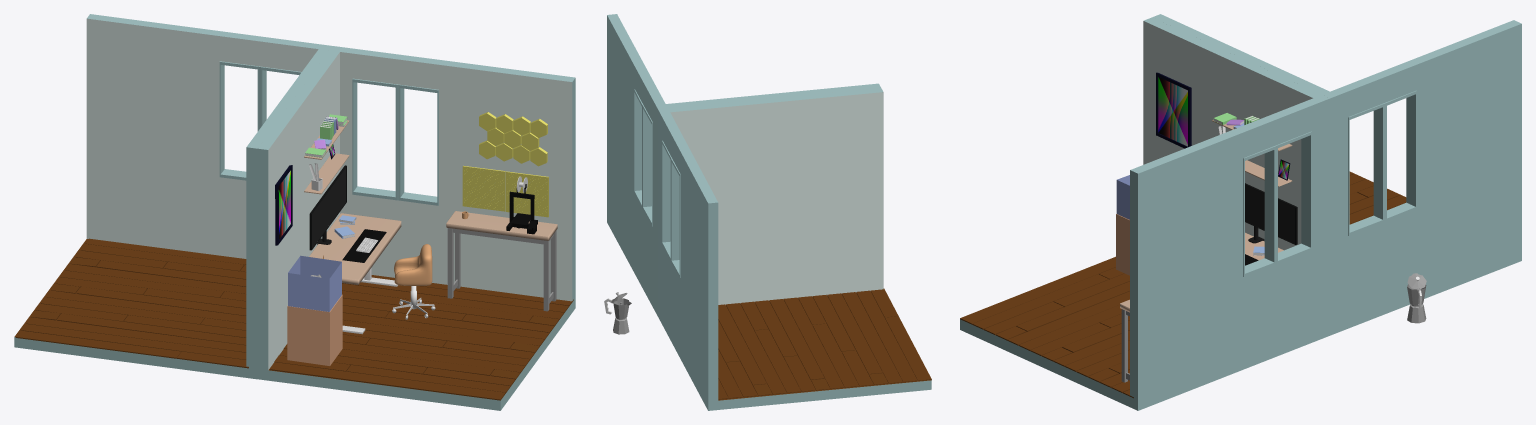
The model's file is Finale Version 21.glb.
3 renders of one model, left to right at view 1: azimuth 30°, elevation 25°; view 2: azimuth 150°, elevation 25°; view 3: azimuth 270°, elevation 25°, orthographic. The views are drawn at different scales.
Visible parts, largest first — view 1: Body, floor.001, floor, Shelves, Desks, Aquarium, Computer, Chair, Table Stuff, Printer; view 2: Body, floor.001, Cube; view 3: Body, floor, Shelves, Computer, floor.001, Aquarium, Desks, Cube.
Boxes of the visible parts, x1=… form: Body: x1=14, y1=14, x2=575, y2=410; floor.001: x1=15, y1=238, x2=248, y2=368; floor: x1=269, y1=275, x2=573, y2=400; Shelves: x1=275, y1=112, x2=548, y2=245; Desks: x1=309, y1=211, x2=557, y2=334; Aquarium: x1=287, y1=255, x2=342, y2=365; Computer: x1=309, y1=165, x2=346, y2=250; Chair: x1=394, y1=244, x2=432, y2=285; Table Stuff: x1=324, y1=211, x2=469, y2=262; Printer: x1=506, y1=184, x2=537, y2=234; Body: x1=607, y1=14, x2=931, y2=410; floor.001: x1=718, y1=288, x2=931, y2=399; Cube: x1=604, y1=292, x2=631, y2=334; Body: x1=960, y1=14, x2=1521, y2=410; floor: x1=960, y1=256, x2=1133, y2=398; Shelves: x1=1156, y1=72, x2=1292, y2=186; Computer: x1=1245, y1=183, x2=1297, y2=244; floor.001: x1=1349, y1=172, x2=1406, y2=224; Aquarium: x1=1116, y1=175, x2=1129, y2=275; Desks: x1=1120, y1=232, x2=1283, y2=382; Cube: x1=1407, y1=273, x2=1426, y2=323.
Size of the model in its own units: 41.16 by 19.68 by 42.24.
Materials: 32 (1 with a texture image).
